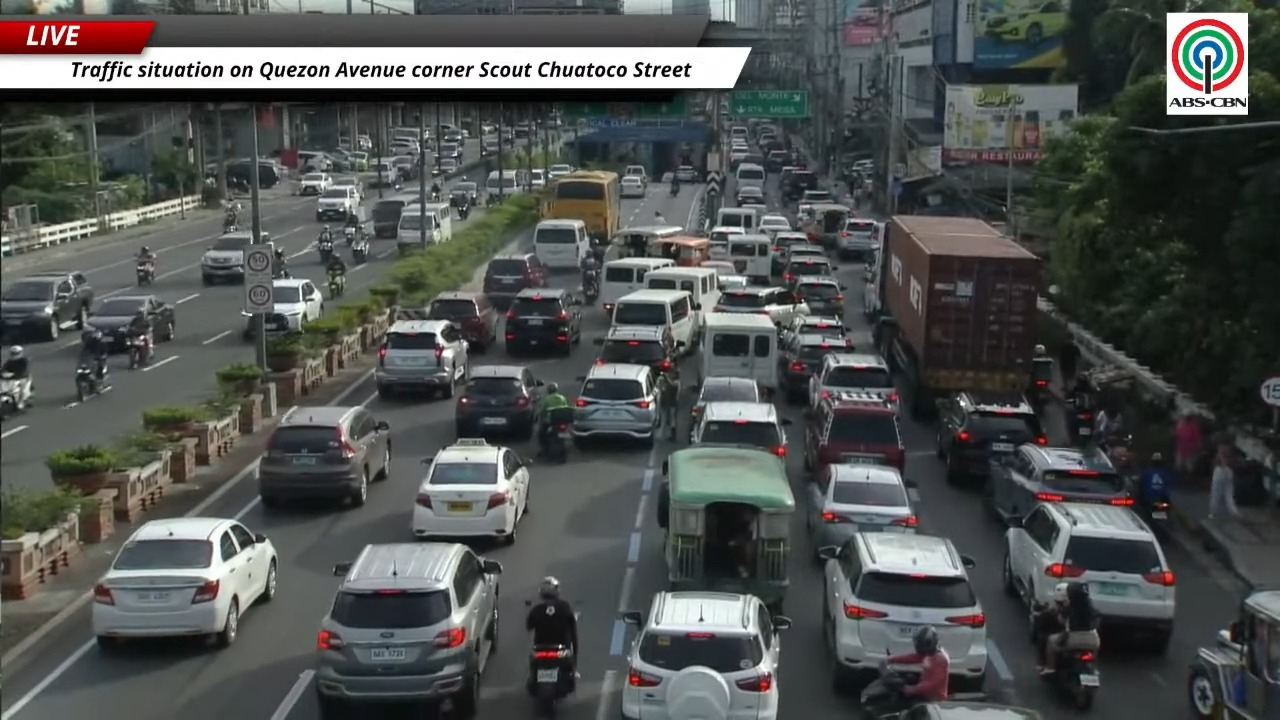bus: (541, 170, 620, 241)
car: (315, 542, 501, 719), (819, 532, 987, 690), (1002, 502, 1175, 653), (92, 517, 277, 650), (621, 592, 791, 719), (257, 406, 391, 508), (411, 438, 529, 544), (984, 443, 1133, 521), (936, 391, 1047, 483), (806, 463, 917, 552), (805, 393, 905, 471), (374, 320, 469, 398), (572, 363, 660, 446), (0, 271, 94, 342), (455, 365, 544, 438), (690, 401, 790, 456), (505, 287, 581, 355), (809, 351, 897, 408), (88, 294, 175, 351), (779, 331, 847, 403), (424, 291, 496, 353), (596, 325, 681, 375), (982, 0, 1067, 47), (713, 286, 807, 325), (483, 252, 547, 309), (905, 693, 1044, 719), (690, 376, 766, 423), (264, 278, 323, 334), (200, 232, 252, 285), (795, 276, 844, 316), (782, 254, 837, 289), (836, 217, 880, 258), (370, 196, 411, 238), (771, 230, 810, 274), (779, 238, 826, 273), (780, 315, 848, 338), (315, 187, 358, 221), (708, 226, 746, 259), (366, 158, 402, 191), (782, 168, 818, 201), (330, 175, 364, 202), (758, 213, 791, 235), (699, 260, 736, 279), (451, 181, 479, 206), (392, 155, 419, 180), (299, 173, 331, 194), (448, 183, 474, 207), (735, 186, 766, 206), (764, 150, 788, 172), (620, 176, 645, 197), (390, 137, 420, 154), (800, 189, 834, 204), (623, 165, 648, 185), (718, 275, 750, 290), (730, 145, 748, 170), (439, 142, 461, 162), (674, 165, 699, 182), (547, 164, 574, 179), (442, 129, 465, 146), (437, 157, 458, 175), (529, 168, 546, 190), (481, 137, 499, 156)
motorcycle: (1041, 649, 1099, 711), (1041, 648, 1099, 710), (528, 645, 575, 717), (859, 662, 918, 719), (859, 665, 910, 719), (1135, 488, 1170, 539), (542, 408, 573, 463), (1064, 394, 1094, 444), (1027, 357, 1053, 413), (74, 362, 107, 402), (0, 373, 28, 419), (127, 334, 152, 370), (582, 268, 599, 304), (136, 260, 154, 285), (351, 238, 368, 263), (328, 274, 344, 298), (317, 240, 333, 263), (273, 261, 291, 278), (457, 202, 471, 220), (485, 193, 501, 207), (344, 227, 355, 246), (224, 220, 237, 233), (431, 191, 441, 203), (670, 184, 679, 196)
truck: (869, 215, 1042, 419)
